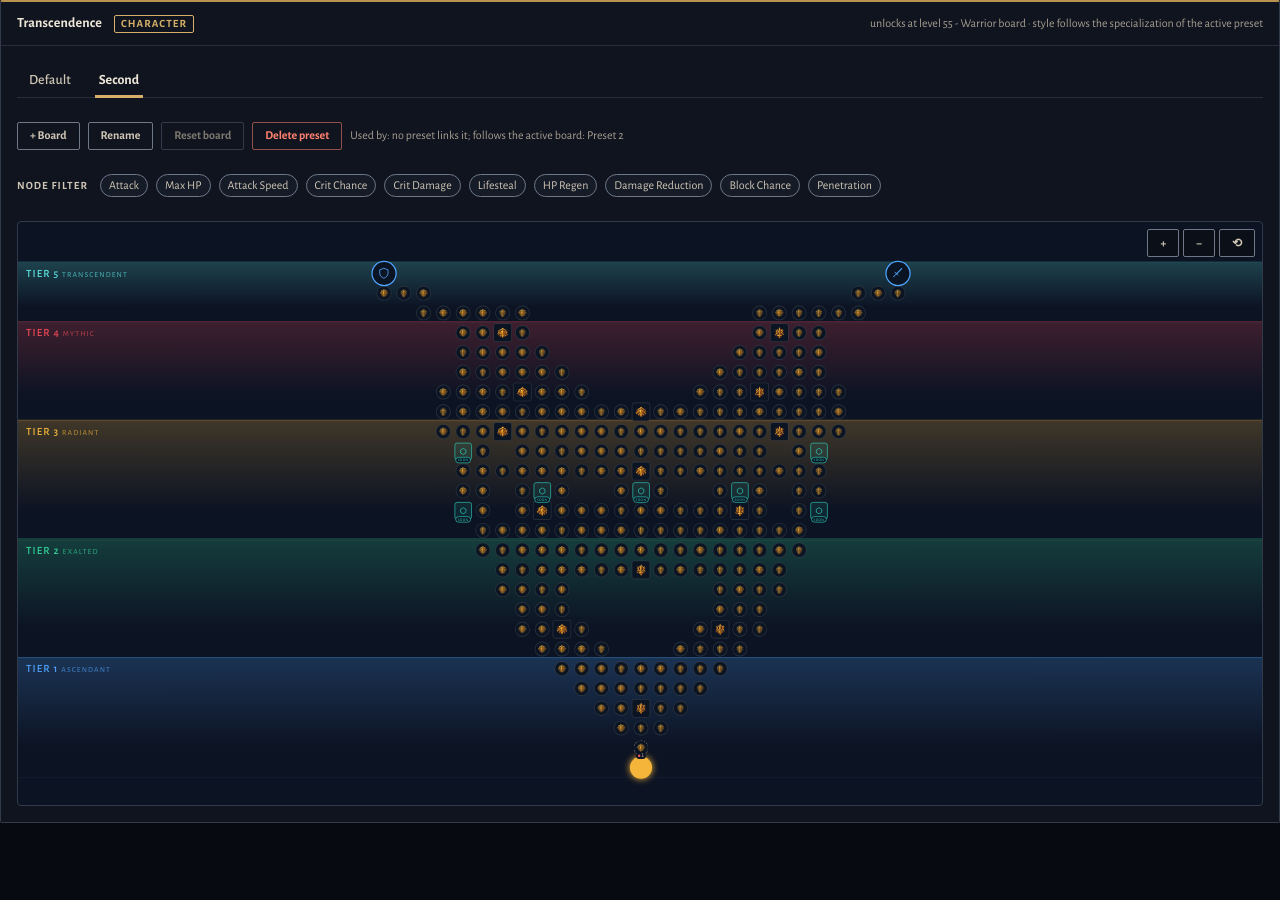
Test: Used by names linked presets and the presets that follow the active board
The width and height of the screenshot is (1280, 900).
Check: the text with test id "board-used-by" shows "Preset 2", box [468,129,624,141]
Check: the text with test id "board-used-by" shows "follow", box [468,129,624,141]
Click the tab "Default". click: (50, 80)
box: [17,62,83,98]
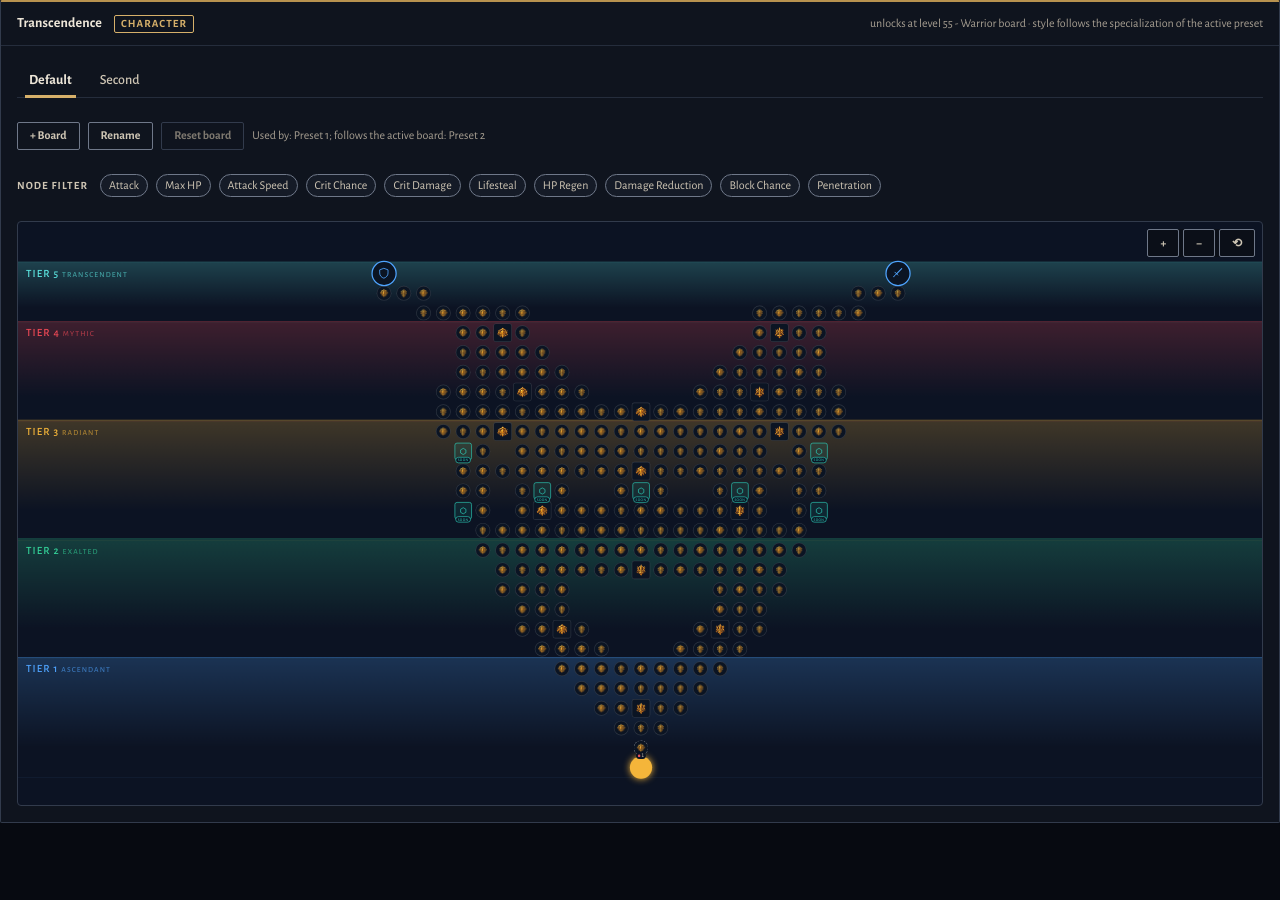
Check: the text with test id "board-used-by" shows "Preset 1", box [252,129,329,141]
